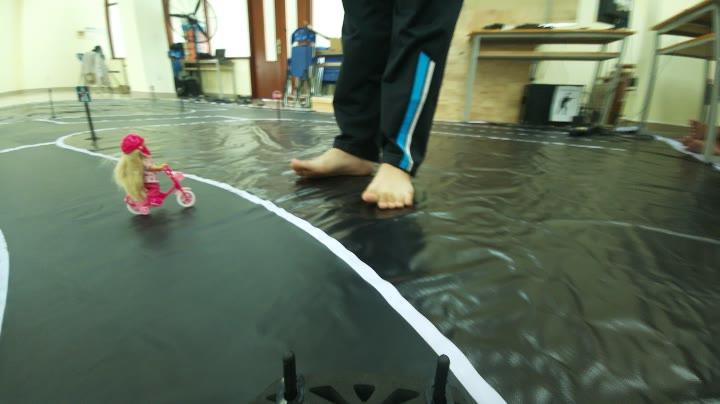pedestrian: (98, 132, 200, 218)
